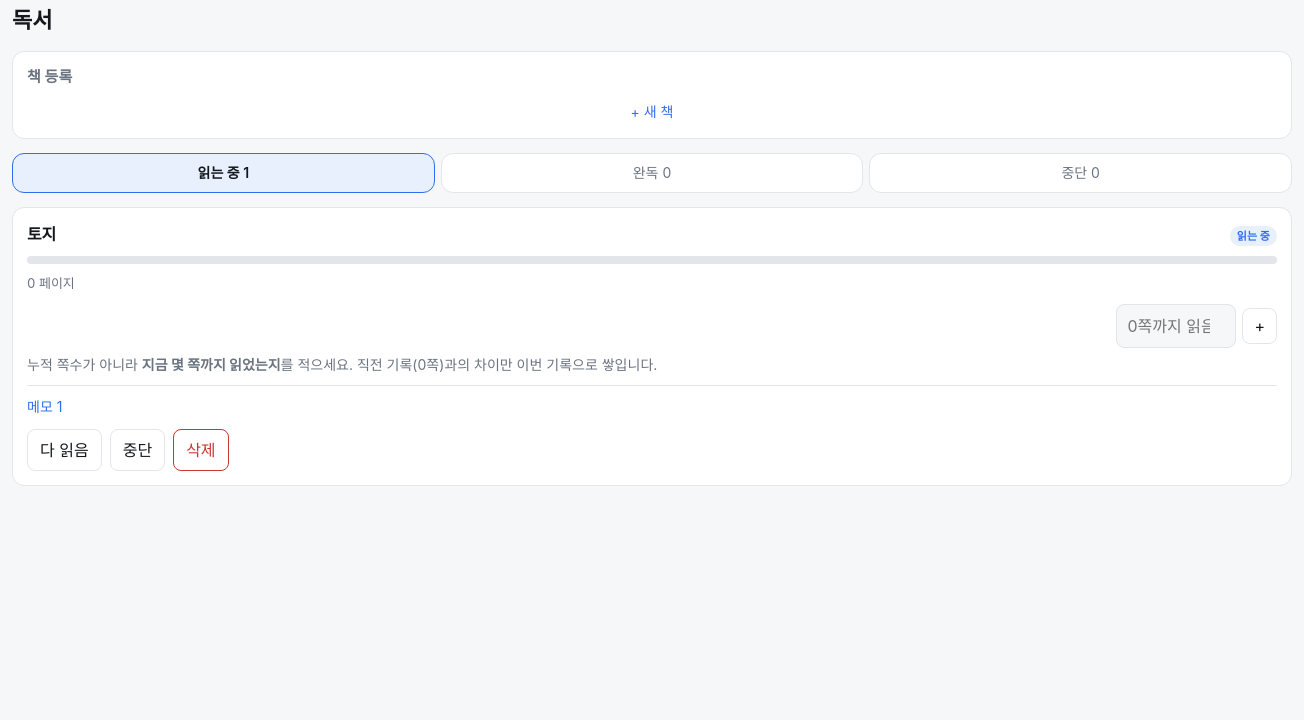
Test case: 책에 붙은 메모 › 붙인 메모를 눌러 고칠 수 있다
This screenshot has width=1304, height=720.
Step 1. Click the button "메모 1" → (45, 406), box [27,394,62,418]
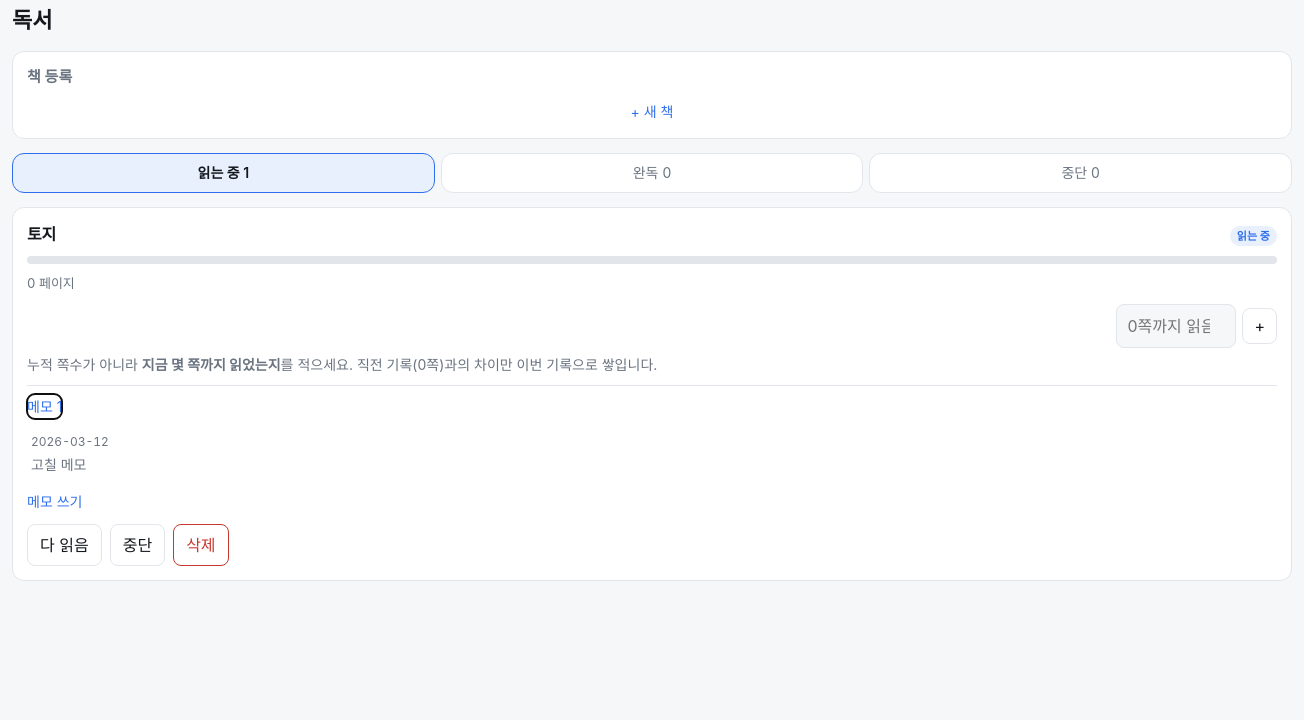
Step 2. Click the button "2026-03-12 고칠 메모" → (70, 441), box [27,422,1277,484]
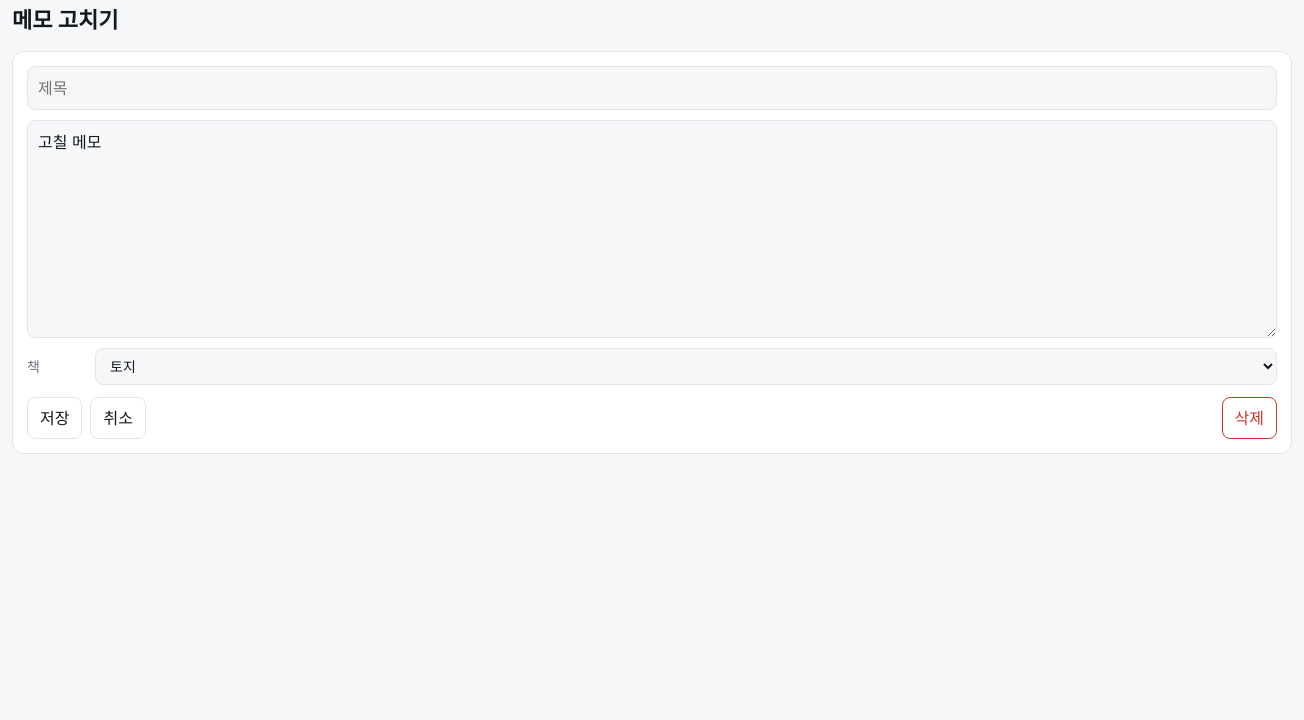
Check: the text box named "본문" holds "고칠 메모", box [27,120,1277,338]
